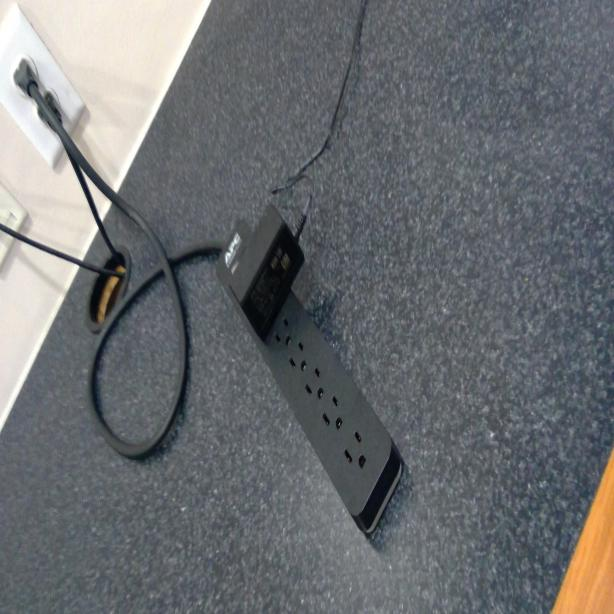typeb: (344, 430, 366, 472), (322, 395, 344, 435), (305, 368, 325, 401), (274, 314, 292, 350), (290, 344, 310, 374)
